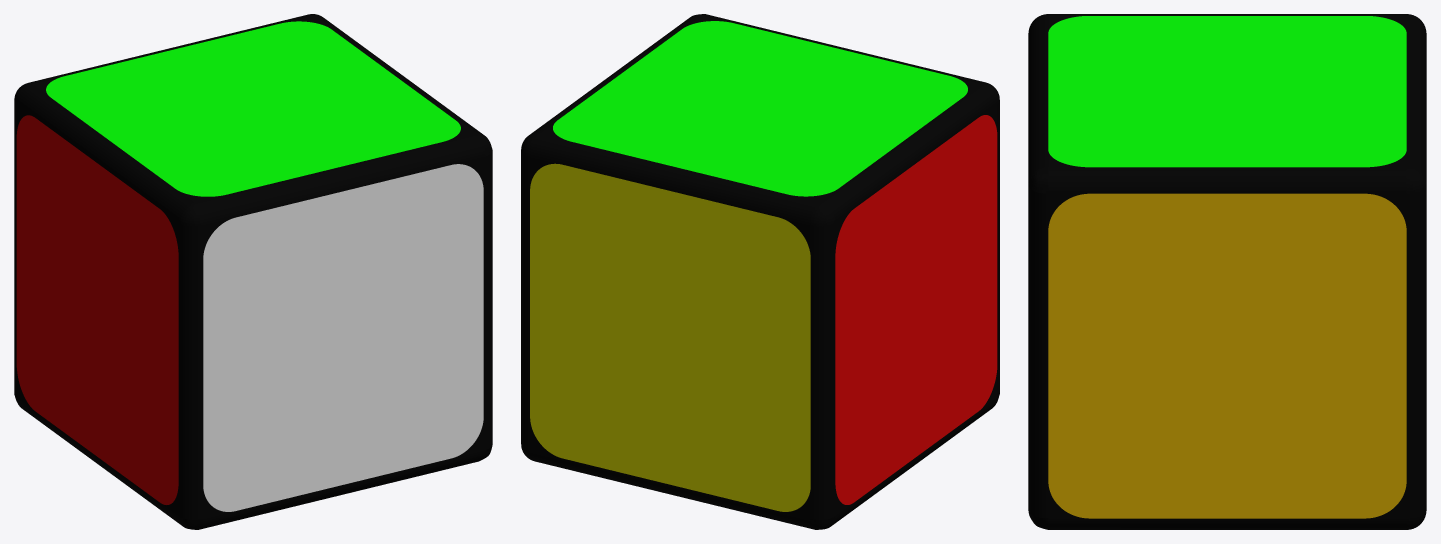
3 renders of one model, left to right at view 1: azimuth 30°, elevation 25°; view 2: azimuth 150°, elevation 25°; view 3: azimuth 270°, elevation 25°, orthographic. The views are drawn at different scales.
Parts seen in each view (by area): view 1: Cube; view 2: Cube; view 3: Cube.
Part boxes in pixels (x1=…): Cube: x1=14, y1=14, x2=492, y2=529; Cube: x1=521, y1=14, x2=999, y2=529; Cube: x1=1028, y1=14, x2=1426, y2=529.
Bounding box in the file's own units: 200 × 200 × 200.
